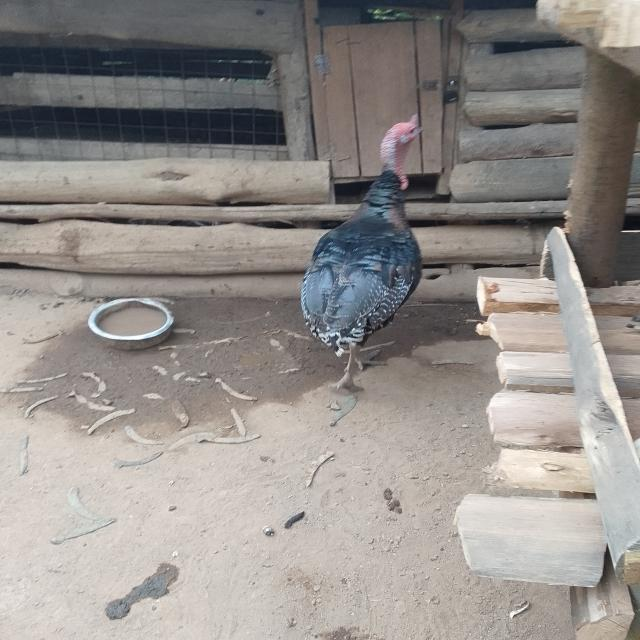turkey: (176, 90, 569, 422)
